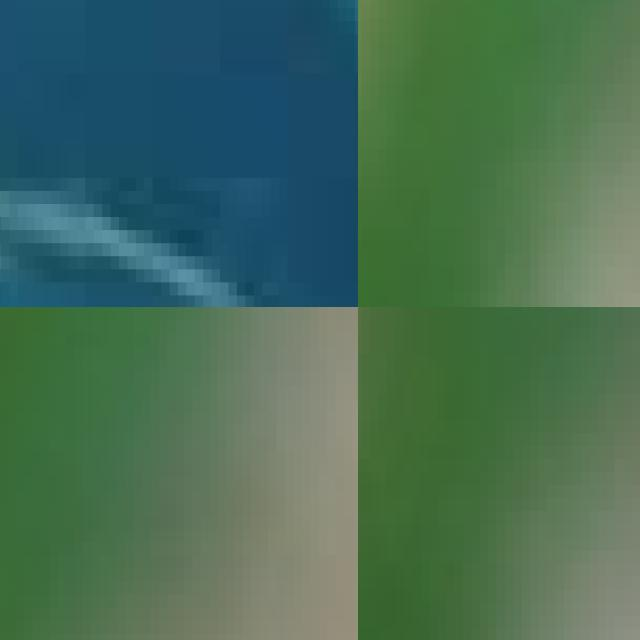fish: (0, 8, 358, 307), (479, 0, 640, 307)
